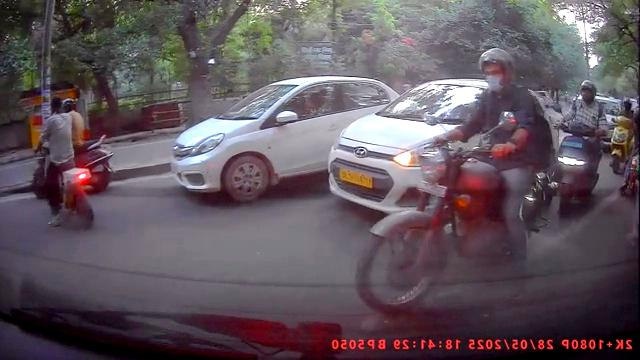motorcycle_with_helmet: (353, 47, 563, 314), (556, 79, 607, 214)
motorcycle_without_helmet: (31, 95, 98, 231)
